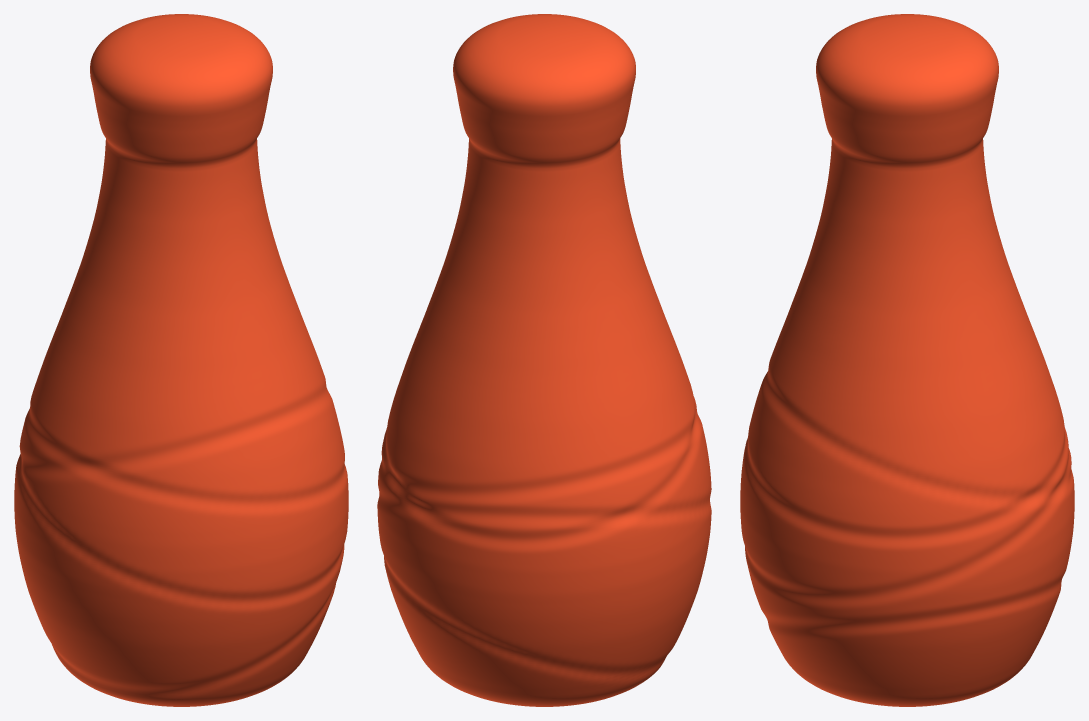
The model's file is bottiglia-edprint.glb.
The picture shows the model from 3 angles, left to right: view 1: azimuth 30°, elevation 25°; view 2: azimuth 150°, elevation 25°; view 3: azimuth 270°, elevation 25°; orthographic projection.
Parts seen in each view (by area): view 1: Bottiglia; view 2: Bottiglia; view 3: Bottiglia.
Part boxes in pixels (left/top/right/bottom): Bottiglia: left=14, top=14, right=348, bottom=706; Bottiglia: left=377, top=14, right=711, bottom=706; Bottiglia: left=740, top=14, right=1074, bottom=706.
Size of the model in its own units: 0.1175 by 0.25 by 0.1175.
